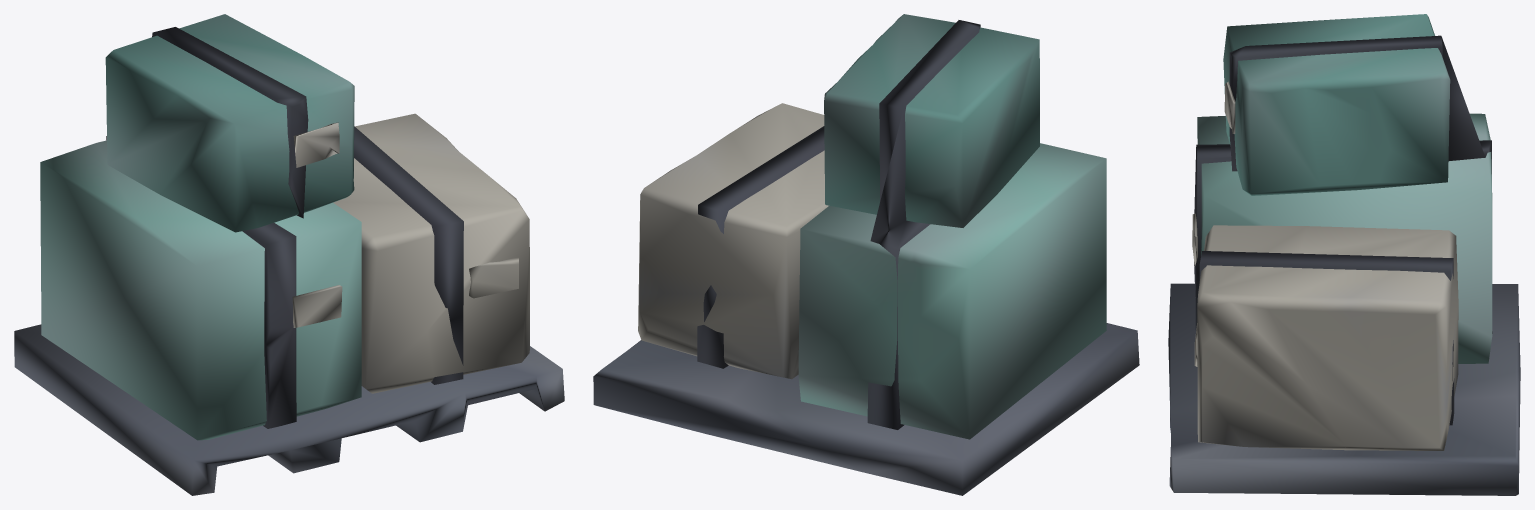
The model's file is bay_pallet_a.glb.
3 renders of one model, left to right at view 1: azimuth 30°, elevation 25°; view 2: azimuth 150°, elevation 25°; view 3: azimuth 270°, elevation 25°, orthographic. The views are drawn at different scales.
Parts seen in each view (by area): view 1: pallet; view 2: pallet; view 3: pallet.
Part boxes in pixels (bbox=[...]): pallet: bbox=[14, 14, 564, 495]; pallet: bbox=[593, 14, 1139, 495]; pallet: bbox=[1168, 14, 1520, 495].
Bounding box in the file's own units: 1.2 × 1.04 × 1.
